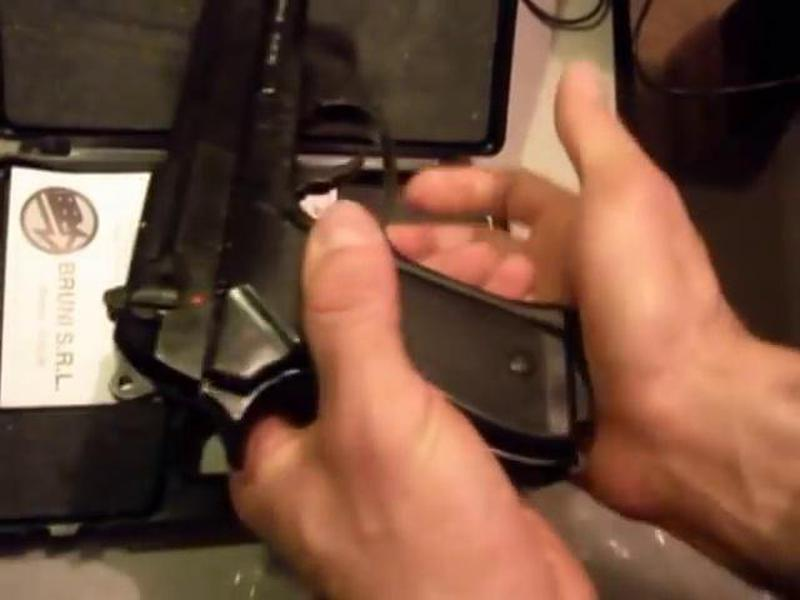Pistola: (90, 1, 631, 498)
